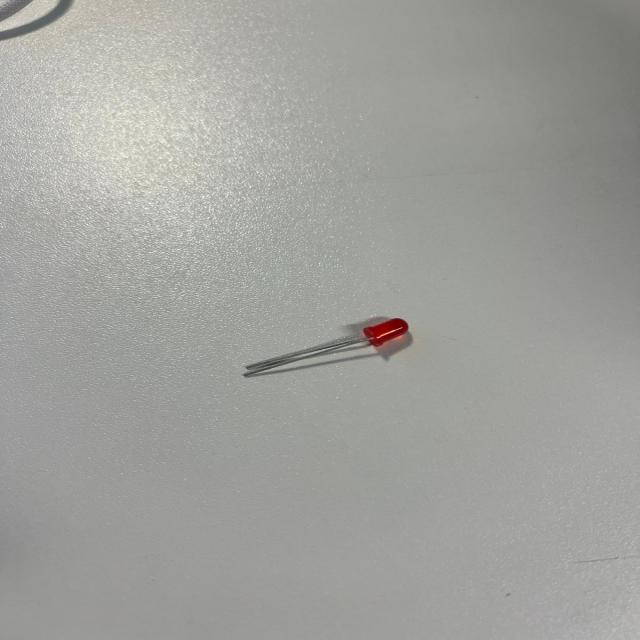REDLed: (240, 312, 441, 395)
